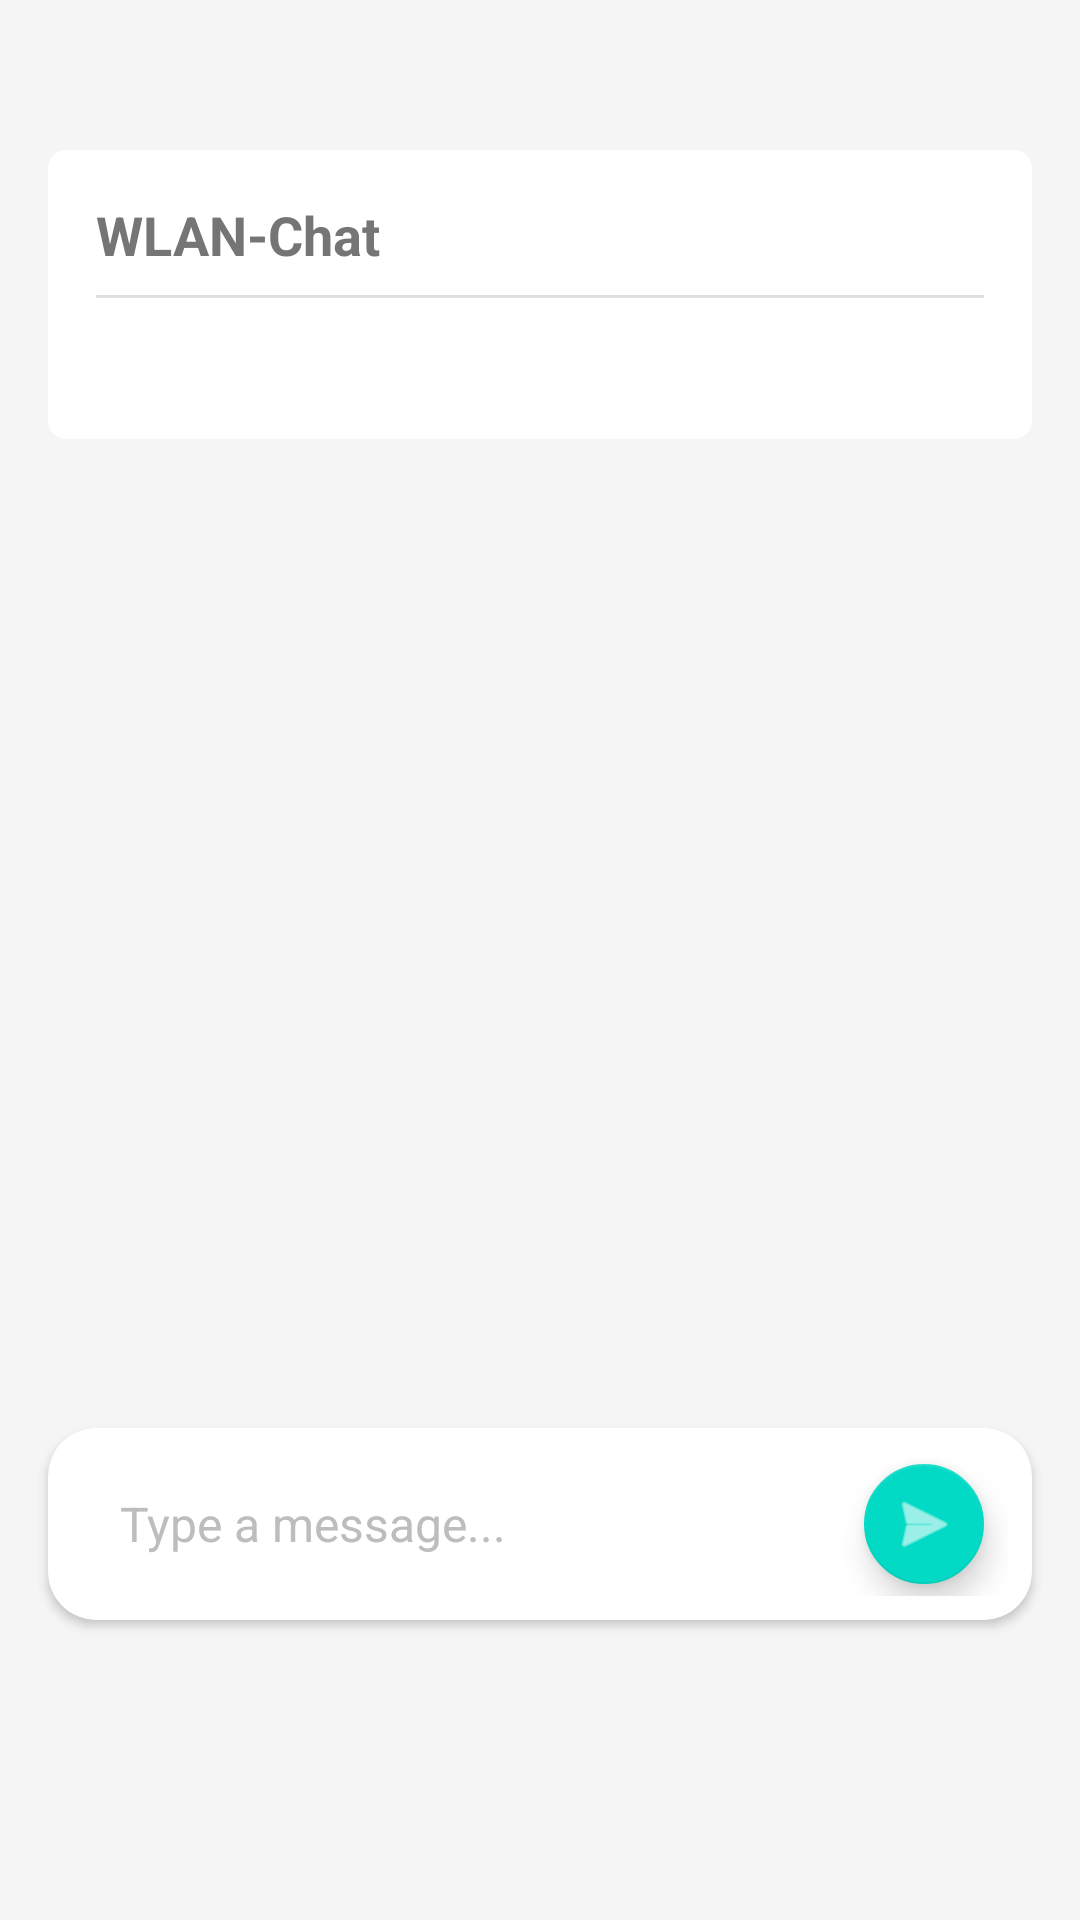

Where to tap for icons on this 1080 x 1920 app screen, as (x,y):
Send message: (925,1530)
